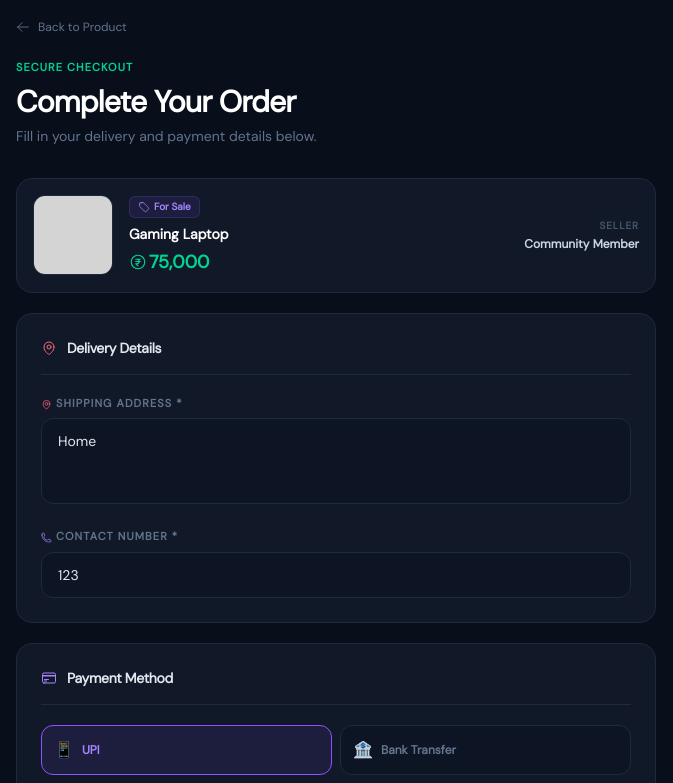
Test: Checkout Page › switches payment methods and shows details
Expected: the heading "Gaming Laptop" is shown, [129, 225, 228, 243]
Click the button "🏦 Bank Transfer". click: (418, 750)
box: [340, 725, 631, 775]
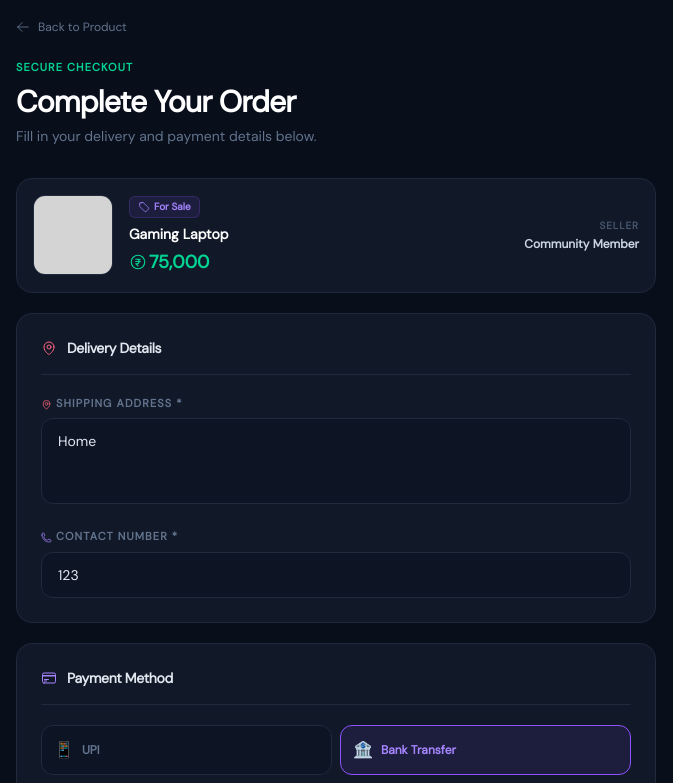
Click the button "📱 UPI". click: (64, 749)
box: [41, 725, 332, 775]
(page scrolled)
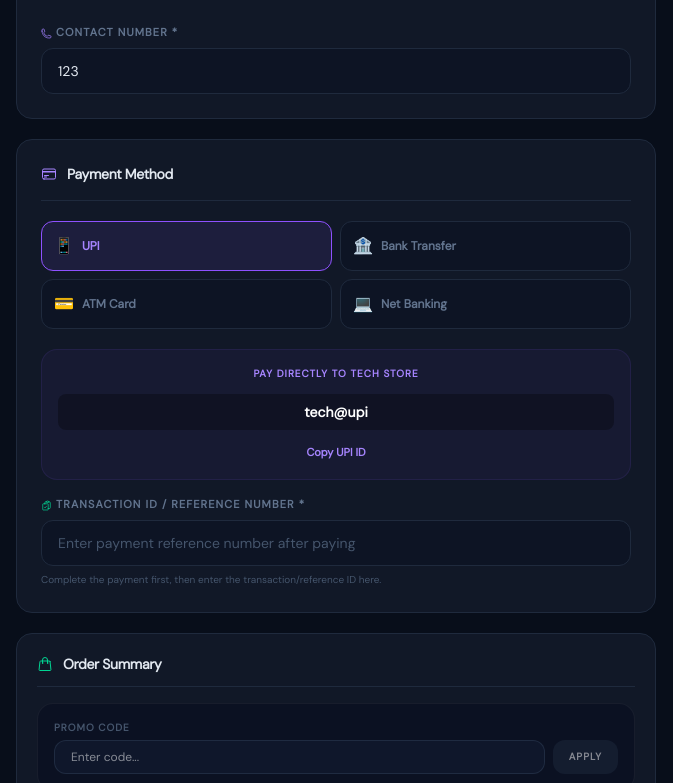
Result: the text "Pay directly to Tech Store" is shown at [253, 367, 419, 380]
